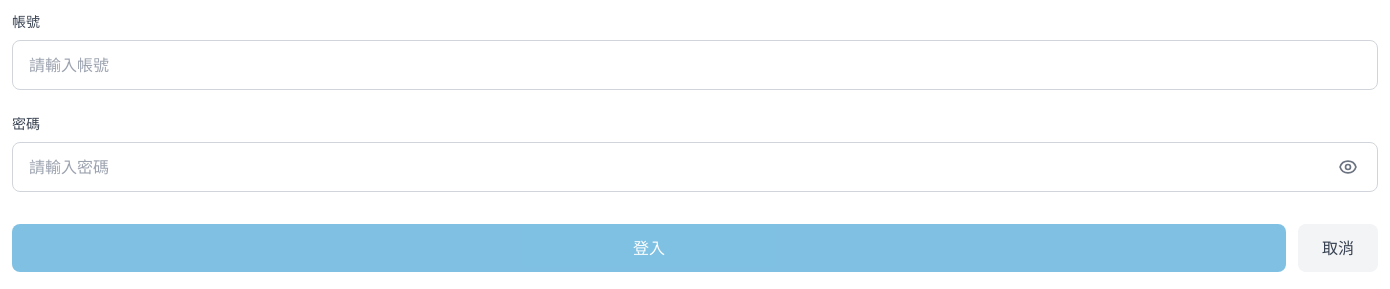
LoginForm › 應該在輸入帳號和密碼後啟用登入按鈕
This screenshot has width=1390, height=289.
Check: the button "登入" is disabled, box [12, 224, 1286, 272]
Type "testuser" into the field labelled "帳號". click: (695, 65)
box: [12, 40, 1378, 90]
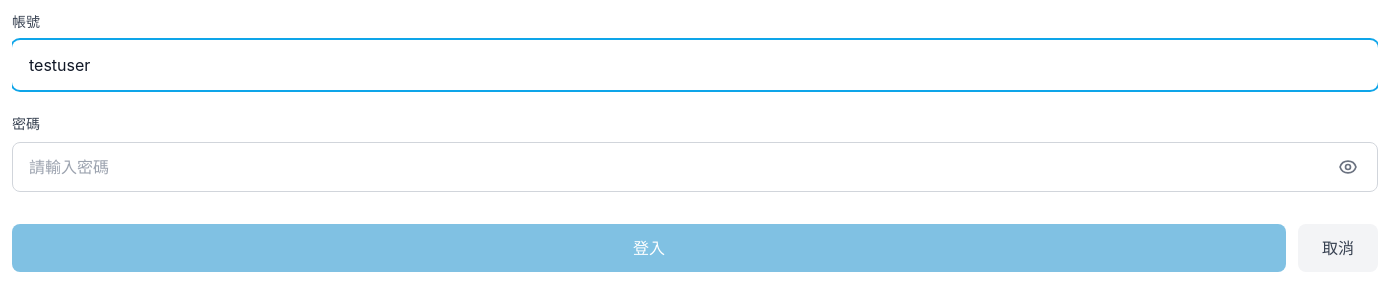
Type "password123" into the password field labelled "密碼". click: (695, 167)
box: [12, 142, 1378, 192]
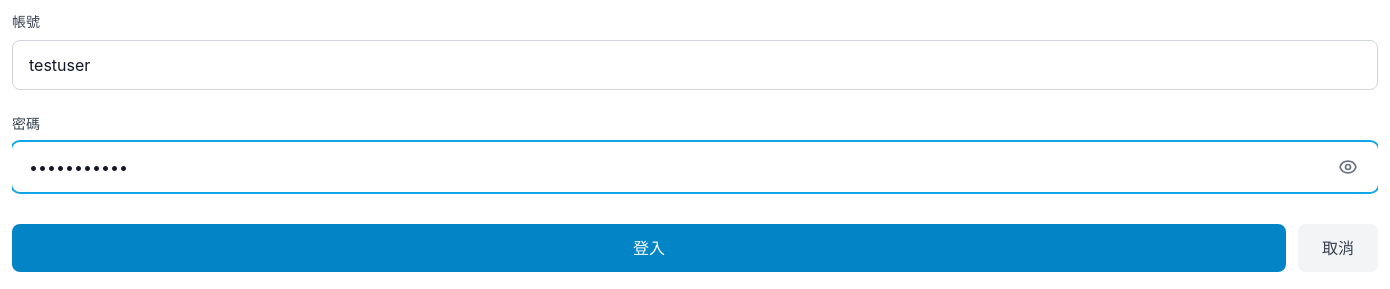
Check: the button "登入" is enabled, box [12, 224, 1286, 272]
